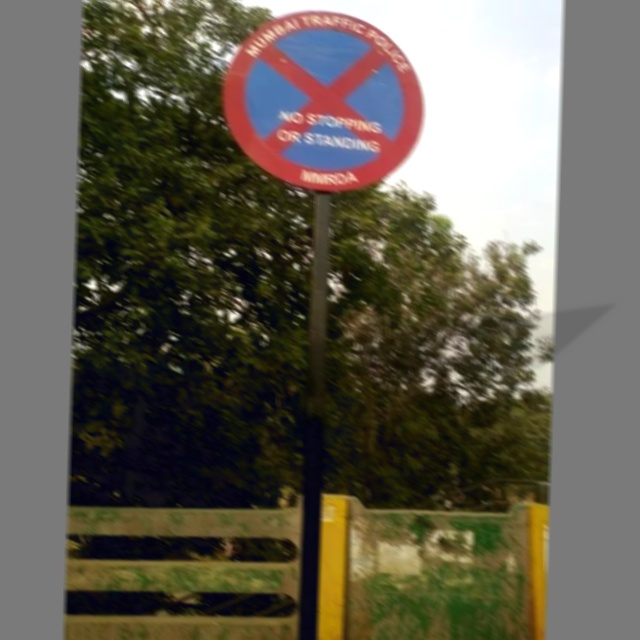No_Stopping_or_Standing: (221, 3, 434, 205)
